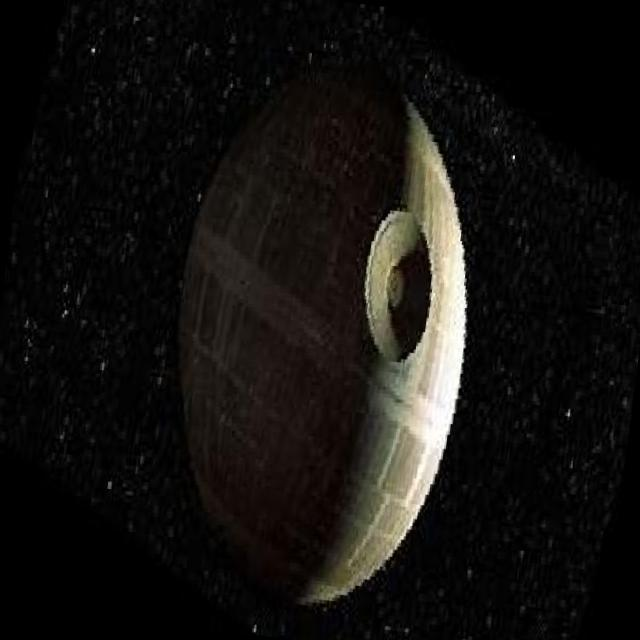Death Star: (137, 39, 503, 630)
